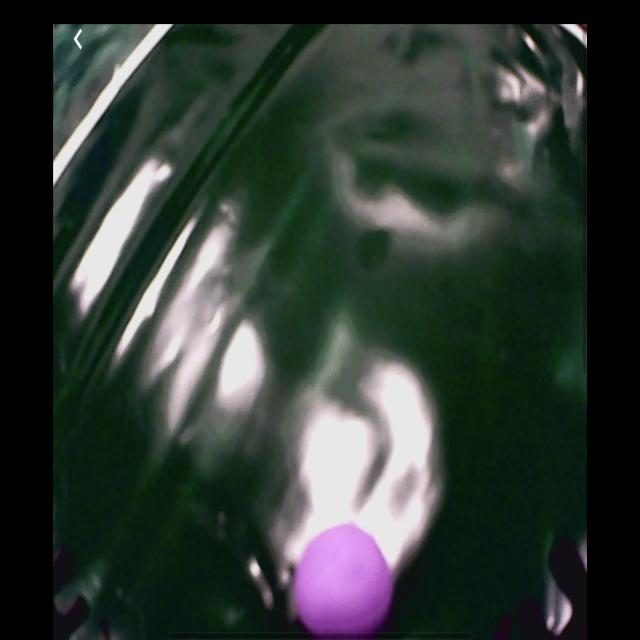ball: (295, 525, 392, 634)
